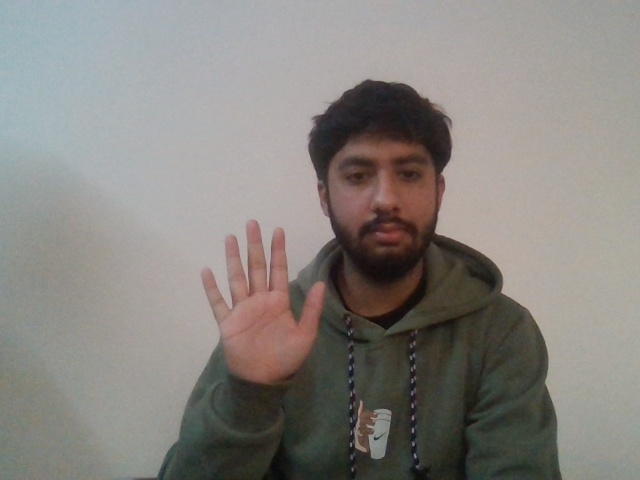Hello: (173, 221, 337, 387)
